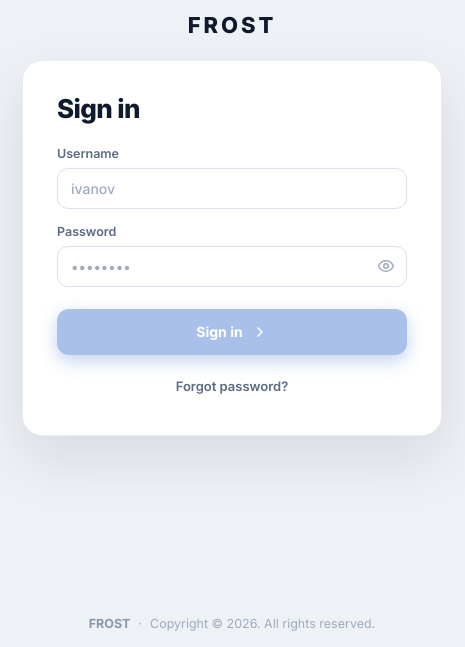
Test: FrostLogin › enables submit only when both fields are filled
expect the button "Sign in" is disabled: met, box [57, 308, 407, 354]
Type "m.antonov" into the field labelled "Username" at (232, 188), box [57, 168, 407, 208]
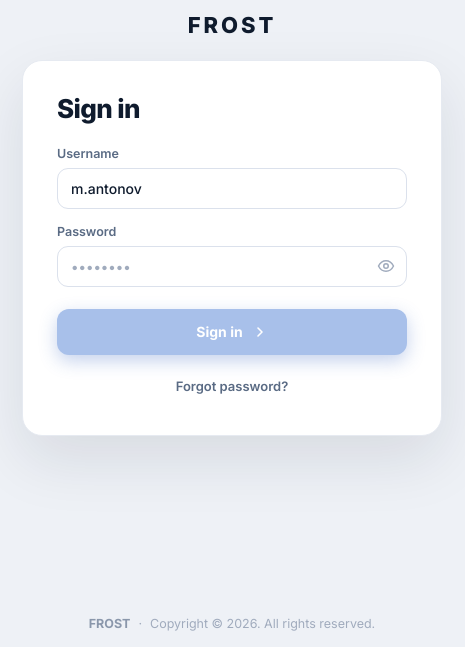
Type "secret" into the password field labelled "Password" at (232, 266), box [57, 246, 407, 286]
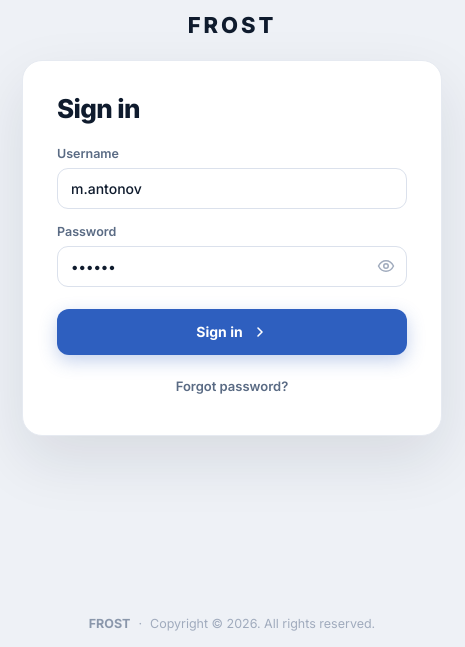
expect the button "Sign in" is enabled: met, box [57, 308, 407, 354]
